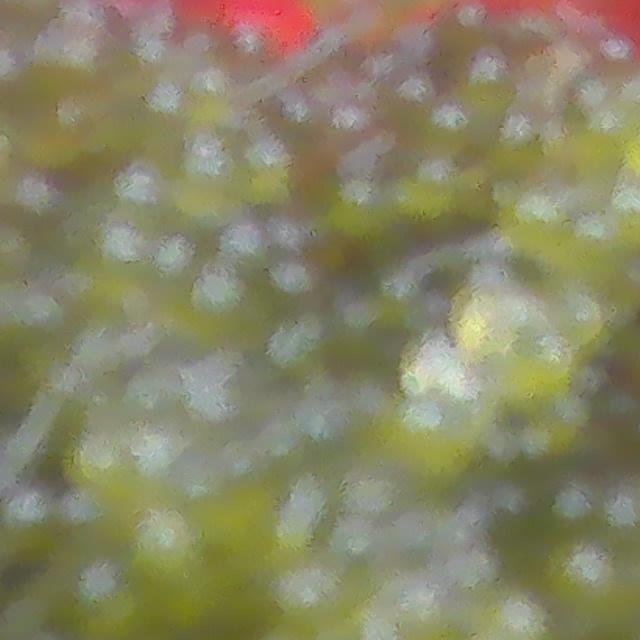SeaGrape: (125, 505, 205, 590), (484, 590, 555, 640)
